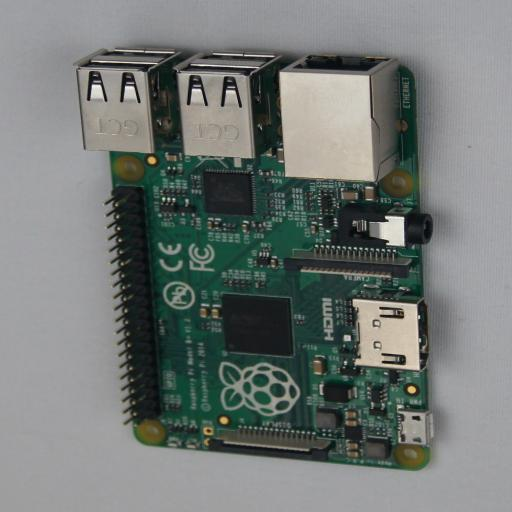Raspberry Pi 1 B-: (76, 45, 439, 471)
